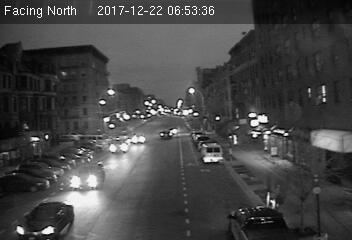car: (14, 196, 77, 239), (70, 161, 105, 190), (108, 138, 130, 153), (128, 132, 148, 144), (158, 128, 173, 140)
truck: (202, 141, 224, 164)
